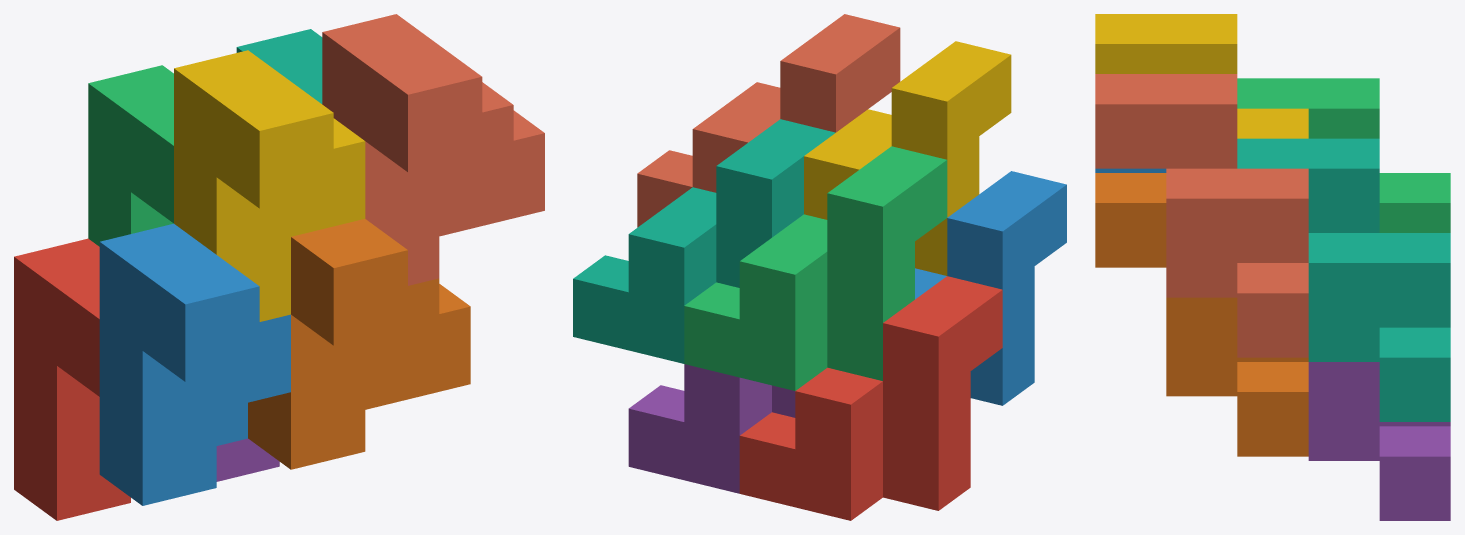
File: tiling.obj
The picture shows the model from 3 angles, left to right: view 1: azimuth 30°, elevation 25°; view 2: azimuth 150°, elevation 25°; view 3: azimuth 270°, elevation 25°; orthographic projection. The views are drawn at different scales.
Visible parts, largest first — view 1: copy_1_domain_2, copy_1_domain_8, copy_1_domain_6, copy_1_domain_4, copy_1_domain_1, copy_1_domain_3, copy_1_domain_7, copy_1_domain_5; view 2: copy_1_domain_1, copy_1_domain_3, copy_1_domain_7, copy_1_domain_4, copy_1_domain_8, copy_1_domain_2, copy_1_domain_5; view 3: copy_1_domain_8, copy_1_domain_7, copy_1_domain_6, copy_1_domain_5, copy_1_domain_3, copy_1_domain_4.
Boxes of the visible parts, <box> form: copy_1_domain_2: <box>99,223,290,505</box>; copy_1_domain_8: <box>322,14,544,285</box>; copy_1_domain_6: <box>248,219,470,469</box>; copy_1_domain_4: <box>174,50,365,321</box>; copy_1_domain_1: <box>14,238,130,520</box>; copy_1_domain_3: <box>88,65,173,246</box>; copy_1_domain_7: <box>236,29,322,103</box>; copy_1_domain_5: <box>216,438,279,481</box>; copy_1_domain_1: <box>739,276,1002,520</box>; copy_1_domain_3: <box>684,146,947,390</box>; copy_1_domain_7: <box>573,119,835,363</box>; copy_1_domain_4: <box>804,41,1011,275</box>; copy_1_domain_8: <box>637,14,900,227</box>; copy_1_domain_2: <box>915,171,1066,405</box>; copy_1_domain_5: <box>628,364,795,493</box>; copy_1_domain_8: <box>1095,74,1308,357</box>; copy_1_domain_7: <box>1237,138,1450,421</box>; copy_1_domain_6: <box>1095,173,1308,456</box>; copy_1_domain_5: <box>1308,362,1450,520</box>; copy_1_domain_3: <box>1237,78,1450,232</box>; copy_1_domain_4: <box>1095,14,1308,138</box>.
Size of the model in its own units: 6 by 6 by 5.
